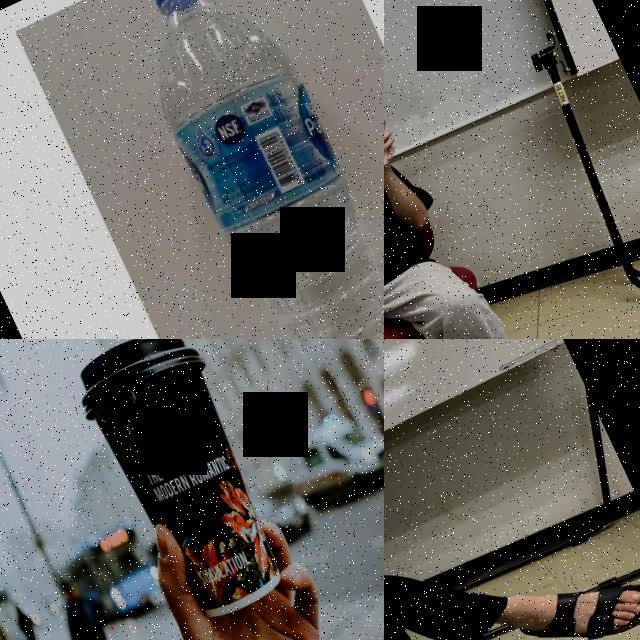bottle: (108, 0, 384, 339)
cup: (62, 339, 305, 633)
